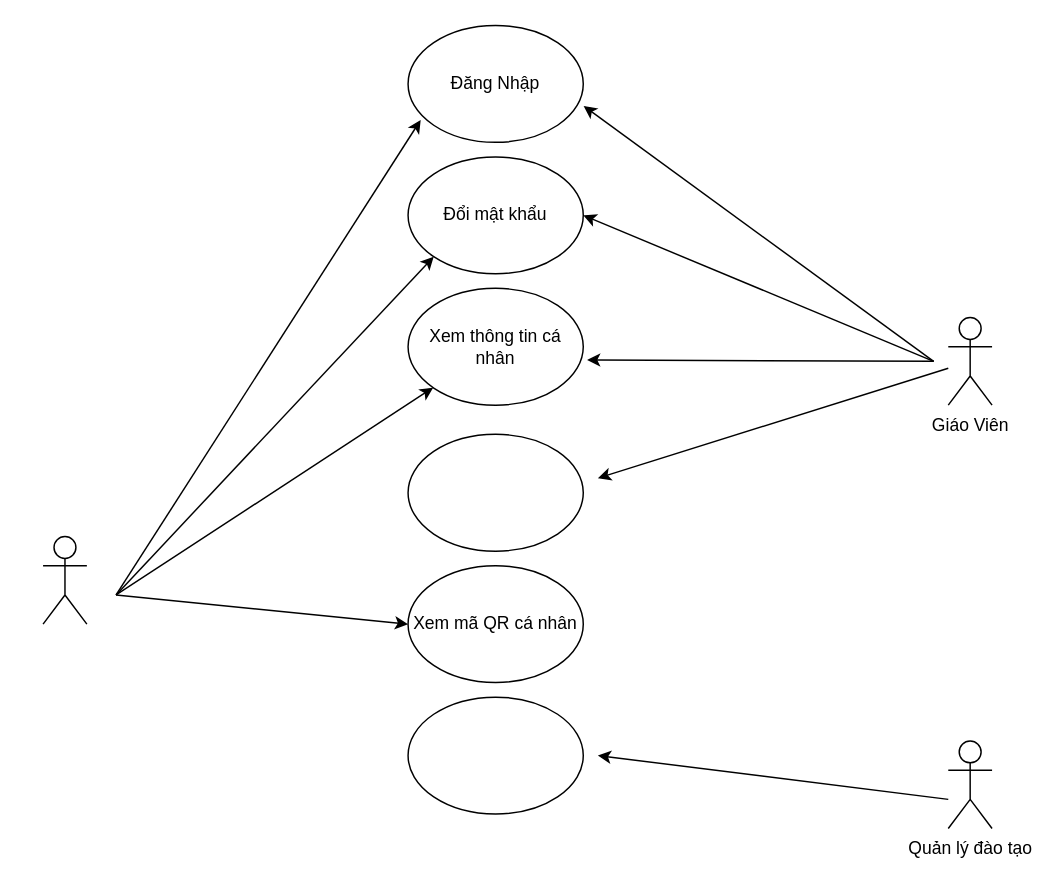
Image size: 1057x885. Some labels were removed from this diagram. The shapes that lost their labels are listed below. From the top down, each one's box as (x1, y1, x2, y2) in pixels, then its label:
(407, 433, 583, 551): Quản lý các sự kiện
(42, 535, 87, 624): Sinh Viên
(407, 696, 583, 814): Quản lý thông tin sinh viên
